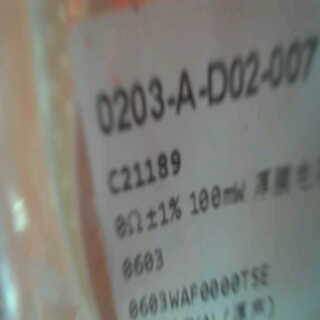0R: (103, 193, 184, 284)
